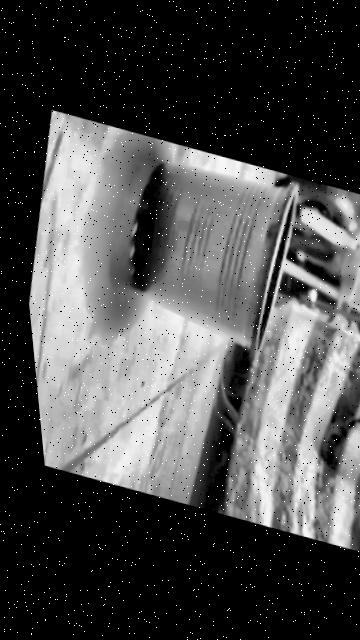pot: (106, 139, 318, 365)
